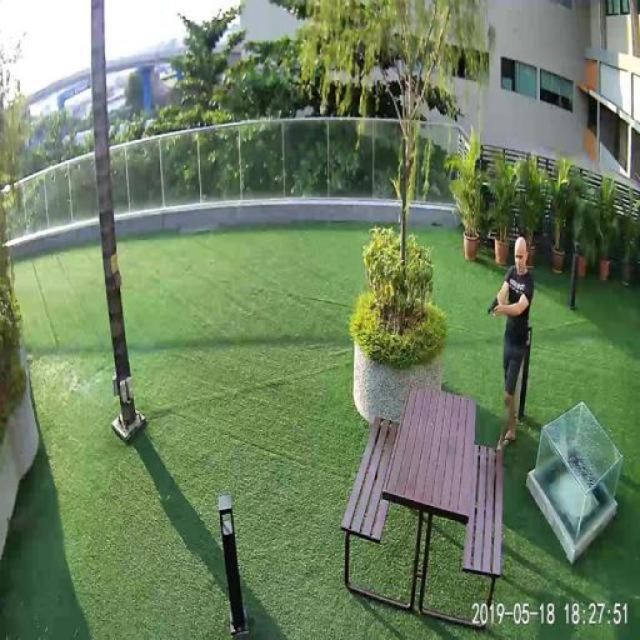pistol: (484, 294, 498, 318)
